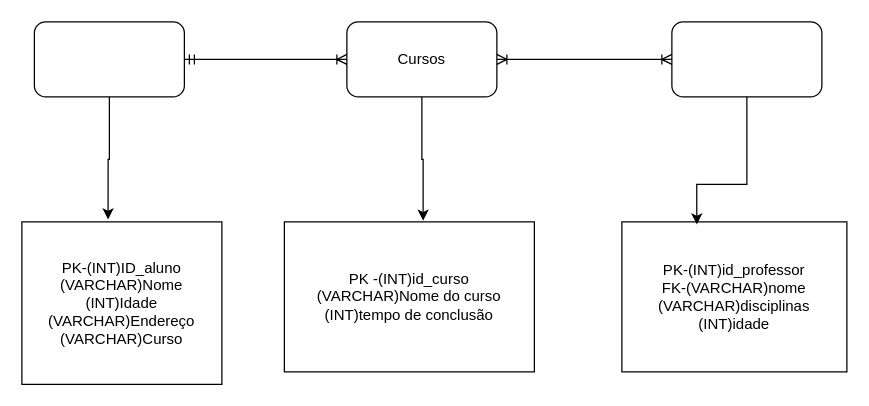
Image size: 869x406. Some labels were removed from this diagram. The centre of each missing label's shape, as x and y in pixels:
"Alunos" belongs at pixel 108 59.
"Professores" belongs at pixel 746 59.
